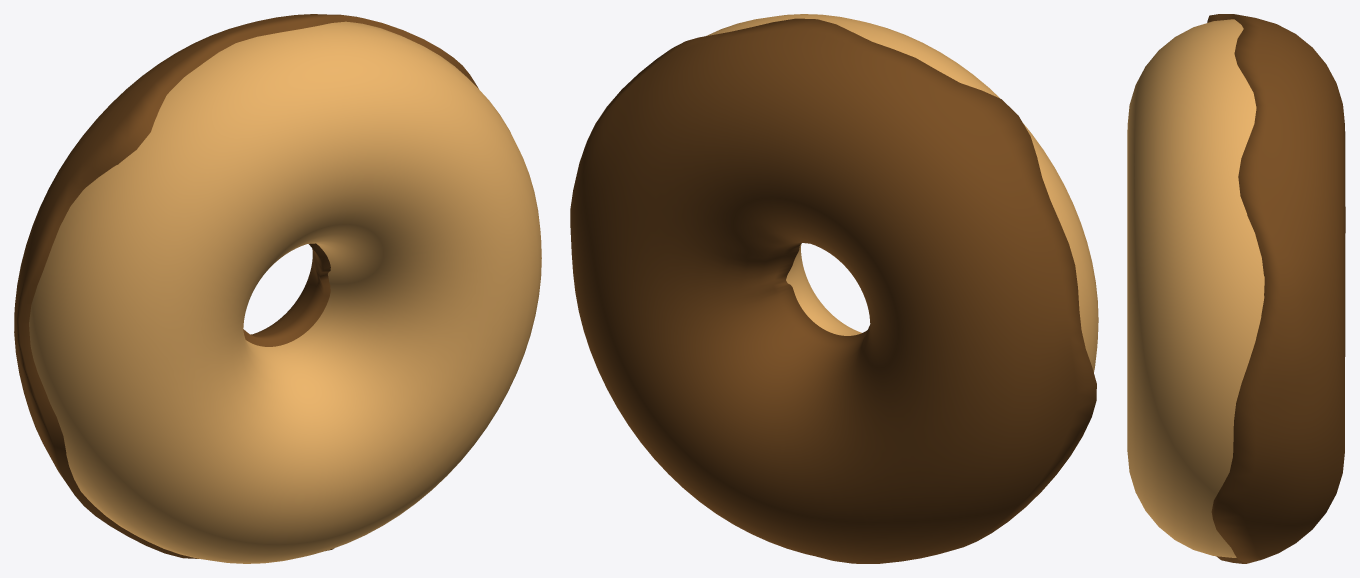
File: Donut.fbx
The picture shows the model from 3 angles, left to right: view 1: azimuth 30°, elevation 25°; view 2: azimuth 150°, elevation 25°; view 3: azimuth 270°, elevation 25°; orthographic projection. The views are drawn at different scales.
Visible parts, largest first — view 1: Donut, Icing; view 2: Icing, Donut; view 3: Donut, Icing.
Boxes of the visible parts, bbox=[...] form: Donut: bbox=[29, 21, 541, 563]; Icing: bbox=[14, 14, 478, 558]; Icing: bbox=[570, 18, 1096, 563]; Donut: bbox=[706, 14, 1098, 372]; Donut: bbox=[1127, 19, 1264, 557]; Icing: bbox=[1207, 14, 1345, 563].
Size of the model in its own units: 11.99 by 11.94 by 4.72.
